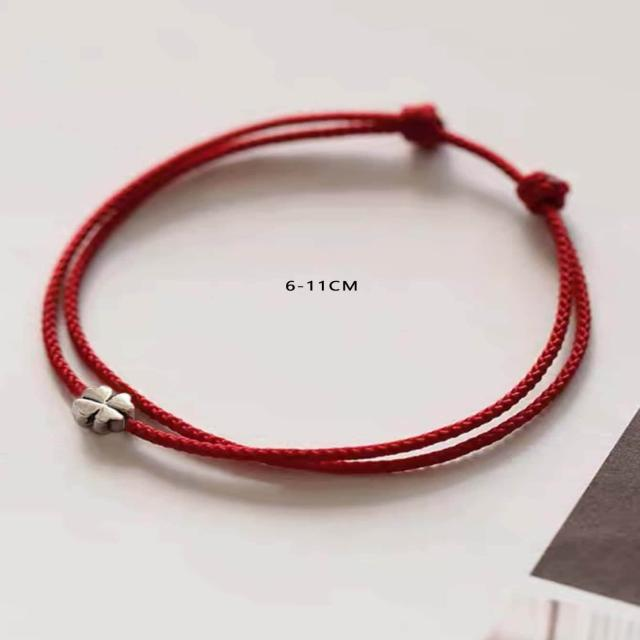bracelet: (0, 43, 640, 496)
